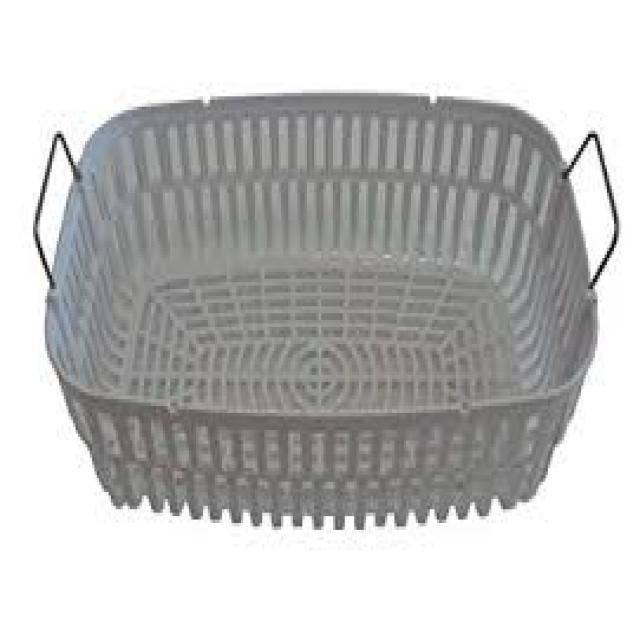basket: (36, 80, 612, 544)
